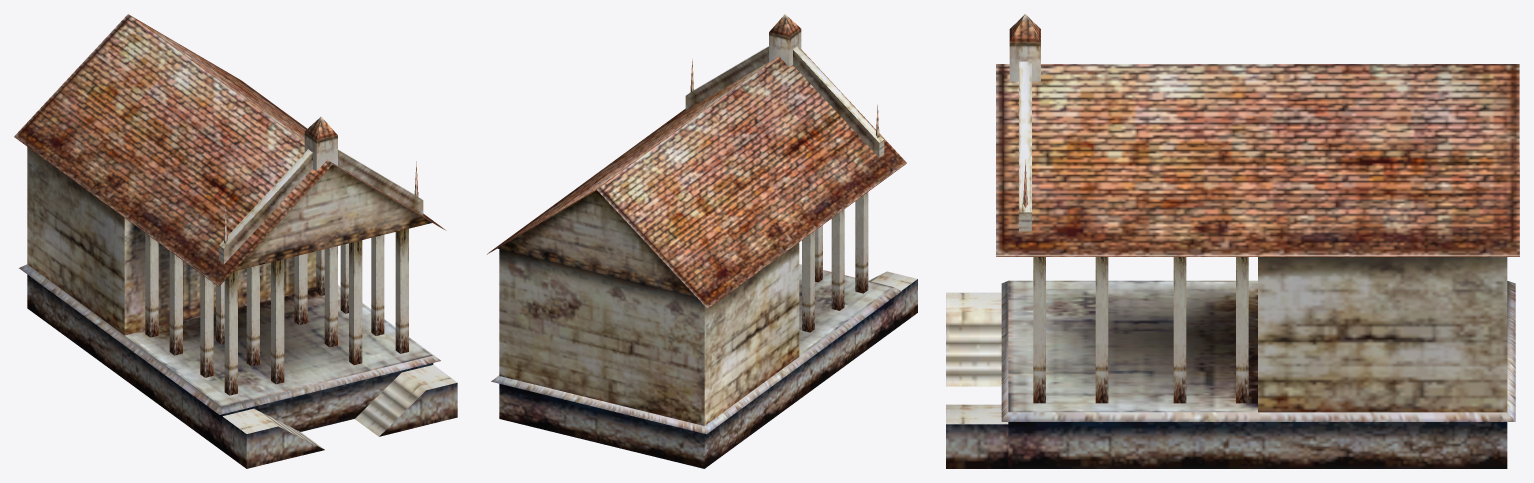
File: Civilian - Civilian Building - Crypt 01 - CBOldmslm.glb
3 renders of one model, left to right at view 1: azimuth 30°, elevation 25°; view 2: azimuth 150°, elevation 25°; view 3: azimuth 270°, elevation 25°, orthographic. The views are drawn at different scales.
Visible parts, largest first — view 1: CBOLDMSLM; view 2: CBOLDMSLM; view 3: CBOLDMSLM.
Part boxes in pixels (left/top/right/bottom): CBOLDMSLM: left=14, top=14, right=457, bottom=468; CBOLDMSLM: left=487, top=14, right=917, bottom=468; CBOLDMSLM: left=946, top=14, right=1519, bottom=468.
Size of the model in its own units: 32.42 by 41.37 by 55.25.
Materials: 1 (1 with a texture image).
